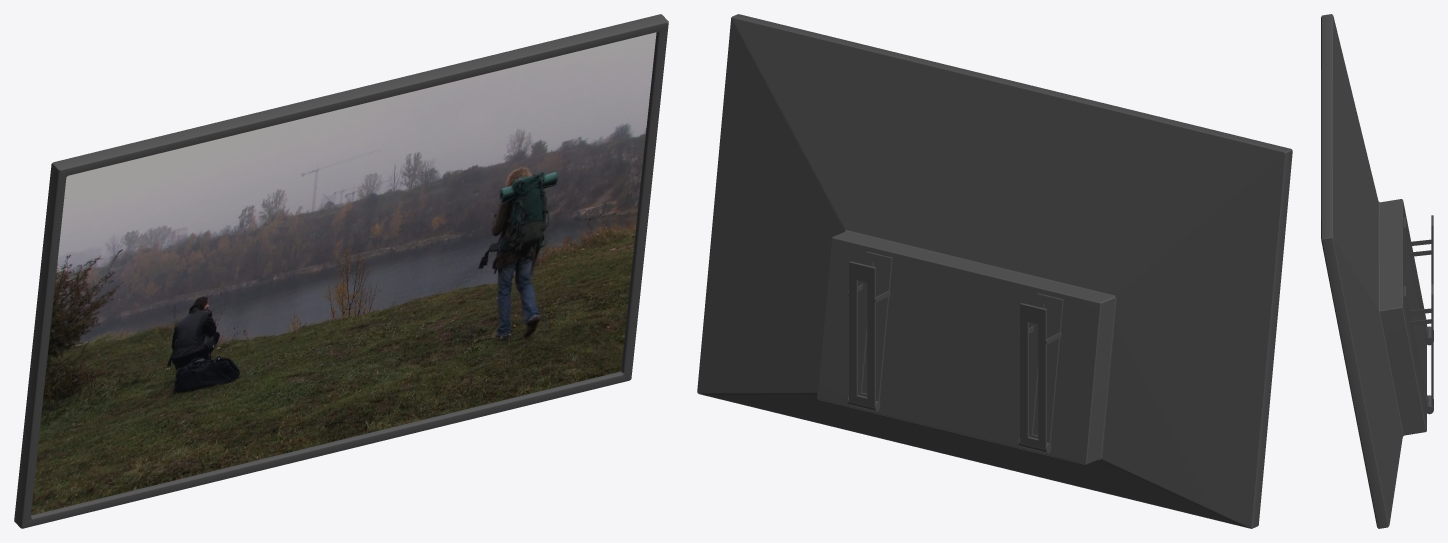
3 views of the same model, side by side, from view 1: azimuth 30°, elevation 25°; view 2: azimuth 150°, elevation 25°; view 3: azimuth 270°, elevation 25° (orthographic). The views are drawn at different scales.
Visible parts, largest first — view 1: TV; view 2: TV; view 3: TV.
Boxes of the visible parts, x1,y1,x2,y2 form: TV: (14, 14, 668, 528); TV: (697, 14, 1292, 528); TV: (1321, 14, 1433, 528).
Size of the model in its own units: 130 by 79.2 by 27.71.
